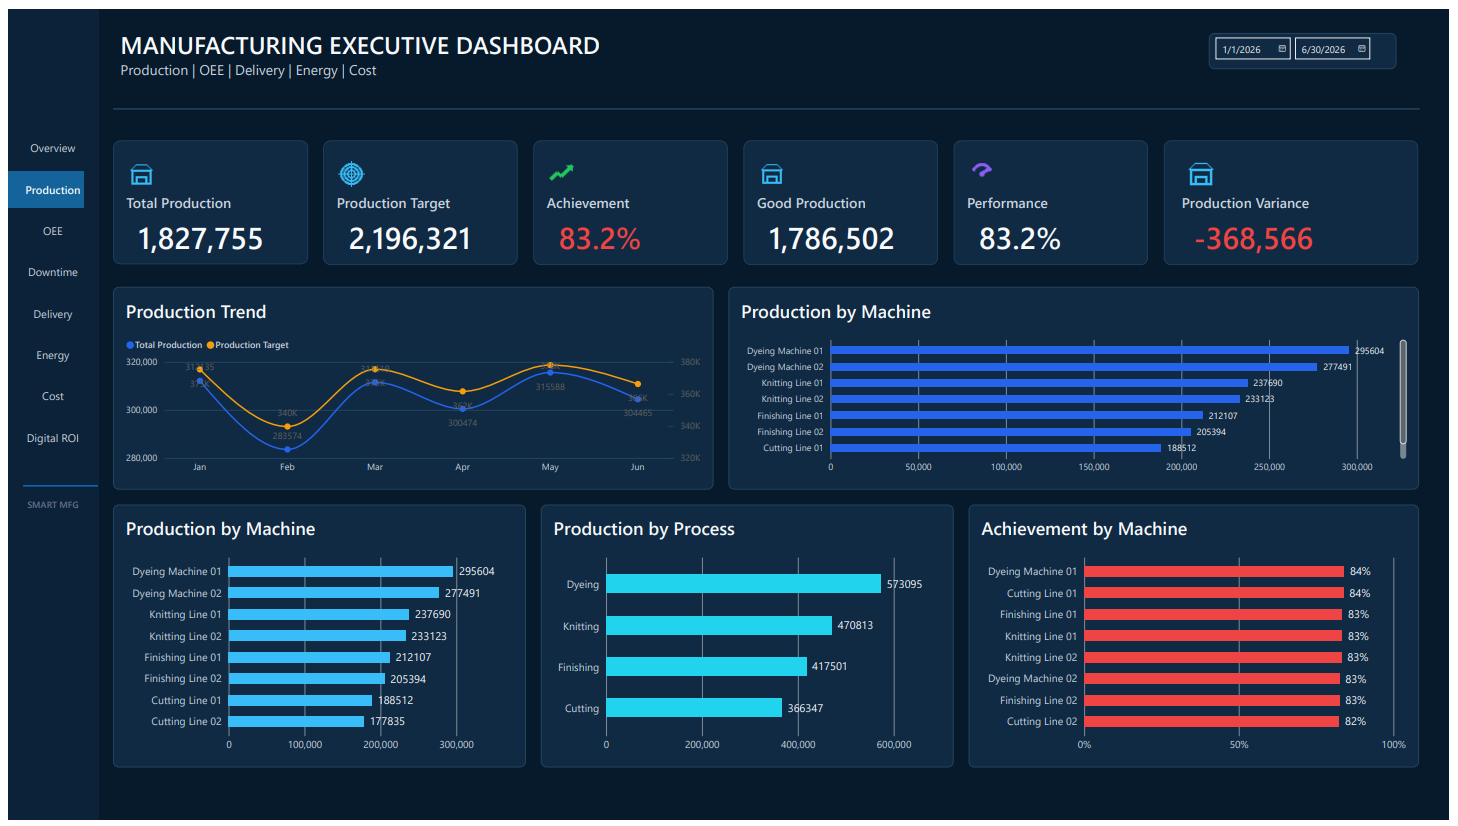

Layout of this report page (visuals, bound fields, positions):
{"tool":"powerbi","page":{"name":"Production","canvas":[1920,1080],"ordinal":1},"visuals":[{"type":"textbox","box":[150,25,900,85],"z":0},{"type":"shape","box":[140,175,260,165],"z":0,"group":"g6"},{"type":"shape","box":[420,175,259.3,165.7],"z":0,"group":"g5"},{"type":"shape","box":[700,175,259.3,165.7],"z":0,"group":"g4"},{"type":"shape","box":[980,175,259.3,165.7],"z":0,"group":"g3"},{"type":"shape","box":[1260,175,259.3,165.7],"z":0,"group":"g2"},{"type":"shape","box":[1540,175,339.2,165.7],"z":0,"group":"g1"},{"type":"slicer","fields":{"Values":["Date_Table.Date"]},"box":[1600,32,250,48],"z":1000},{"type":"image","box":[158.2,198,38.3,42],"z":1000,"group":"g6"},{"type":"image","box":[438.2,198.1,38.2,42.2],"z":1000,"group":"g5"},{"type":"image","box":[718.2,198.1,38.2,42.2],"z":1000,"group":"g4"},{"type":"image","box":[998.2,198.1,38.2,42.2],"z":1000,"group":"g3"},{"type":"image","box":[1278.2,198.1,38.2,42.2],"z":1000,"group":"g2"},{"type":"image","box":[1563.8,198.1,50,42.2],"z":1000,"group":"g1"},{"type":"group","id":"g1","title":"Orders","box":[1540,175,340,165],"z":2000},{"type":"textbox","box":[158.2,245,182.5,30],"z":2000,"group":"g6"},{"type":"textbox","box":[438.2,245.3,182,30.1],"z":2000,"group":"g5"},{"type":"textbox","box":[718.2,245.3,182,30.1],"z":2000,"group":"g4"},{"type":"textbox","box":[998.2,245.3,182,30.1],"z":2000,"group":"g3"},{"type":"textbox","box":[1278.2,245.3,182,30.1],"z":2000,"group":"g2"},{"type":"textbox","box":[1563.8,245.3,238,30.1],"z":2000,"group":"g1"},{"type":"group","id":"g2","title":"Downtime","box":[1260,175,260,165],"z":3000},{"type":"cardVisual","fields":{"Data":["_measure.Total Production"]},"box":[158.2,280,209.8,45],"z":3000,"group":"g6"},{"type":"cardVisual","fields":{"Data":["_measure.Production Target"]},"box":[438.2,280.5,209.3,45.2],"z":3000,"group":"g5"},{"type":"cardVisual","fields":{"Data":["_measure.Production Achievement %"]},"box":[718.2,280.5,209.3,45.2],"z":3000,"group":"g4"},{"type":"cardVisual","fields":{"Data":["_measure.Good Production"]},"box":[998.2,280.5,209.3,45.2],"z":3000,"group":"g3"},{"type":"cardVisual","fields":{"Data":["_measure.Performance %"]},"box":[1278.2,280.5,209.3,45.2],"z":3000,"group":"g2"},{"type":"cardVisual","fields":{"Data":["_measure.Production Variance"]},"box":[1563.8,280.5,273.7,45.2],"z":3000,"group":"g1"},{"type":"group","id":"g3","title":"OEE","box":[980,175,260,165],"z":4000},{"type":"group","id":"g4","title":"Achievement","box":[700,175,260,165],"z":5000},{"type":"group","id":"g5","title":"Target","box":[420,175,260,165],"z":6000},{"type":"group","id":"g6","title":"Production","box":[140,175,260,165],"z":7000},{"type":"shape","title":"Sidebar Background","box":[0,0,120,1080],"z":8000},{"type":"shape","box":[0,215.7,99.9,49.2],"z":9000},{"type":"textbox","box":[10,174,100,25],"z":10000},{"type":"textbox","box":[10,230,100,25],"z":11000},{"type":"textbox","box":[10,285,100,25],"z":12000},{"type":"textbox","box":[10,340,100,25],"z":13000},{"type":"textbox","box":[10,395,100,25],"z":14000},{"type":"textbox","box":[10,450,100,25],"z":15000},{"type":"textbox","box":[10,505,100,25],"z":16000},{"type":"textbox","box":[10,560,100,25],"z":17000},{"type":"shape","box":[20,625,100,20],"z":18000},{"type":"textbox","box":[10,650,100,25],"z":19000},{"type":"shape","box":[140,106.4,1741.2,53.9],"z":20000},{"type":"lineChart","title":"Production Trend","fields":{"Category":["Date_Table.Month"],"Y":["_measure.Total Production"],"Y2":["_measure.Production Target"]},"box":[140,370,800,270],"z":21000},{"type":"clusteredBarChart","title":"Production by Machine","fields":{"Category":["Production.Machine Name"],"Y":["_measure.Total Production"]},"box":[960,370,920,270],"z":22000},{"type":"clusteredBarChart","title":"Production by Machine","fields":{"Category":["Production.Machine Name"],"Y":["_measure.Total Production"]},"box":[140,660,550,350],"z":23000},{"type":"clusteredBarChart","title":"Production by Process","fields":{"Category":["Production.Process"],"Y":["_measure.Total Production"]},"box":[710,660,550,350],"z":24000},{"type":"clusteredBarChart","title":"Achievement by Machine","fields":{"Category":["Production.Machine Name"],"Y":["_measure.Production Achievement %"]},"box":[1280,660,600,350],"z":25000}]}

Visuals, with their boxes in screenshot pixels (x1, y1, x2, y2), scaled from the page's 1920x1080 canvas onto the 1458x826 screenshot:
textbox: pyautogui.locateOnScreen(114, 19, 797, 84)
shape: pyautogui.locateOnScreen(106, 134, 304, 260)
shape: pyautogui.locateOnScreen(319, 134, 516, 261)
shape: pyautogui.locateOnScreen(532, 134, 728, 261)
shape: pyautogui.locateOnScreen(744, 134, 941, 261)
shape: pyautogui.locateOnScreen(957, 134, 1154, 261)
shape: pyautogui.locateOnScreen(1169, 134, 1427, 261)
slicer - Date_Table.Date: pyautogui.locateOnScreen(1215, 24, 1405, 61)
image: pyautogui.locateOnScreen(120, 151, 149, 184)
image: pyautogui.locateOnScreen(333, 152, 362, 184)
image: pyautogui.locateOnScreen(545, 152, 574, 184)
image: pyautogui.locateOnScreen(758, 152, 787, 184)
image: pyautogui.locateOnScreen(971, 152, 1000, 184)
image: pyautogui.locateOnScreen(1188, 152, 1225, 184)
"Orders" group: pyautogui.locateOnScreen(1169, 134, 1428, 260)
textbox: pyautogui.locateOnScreen(120, 187, 259, 210)
textbox: pyautogui.locateOnScreen(333, 188, 471, 211)
textbox: pyautogui.locateOnScreen(545, 188, 684, 211)
textbox: pyautogui.locateOnScreen(758, 188, 896, 211)
textbox: pyautogui.locateOnScreen(971, 188, 1109, 211)
textbox: pyautogui.locateOnScreen(1188, 188, 1368, 211)
"Downtime" group: pyautogui.locateOnScreen(957, 134, 1154, 260)
cardVisual - _measure.Total Production: pyautogui.locateOnScreen(120, 214, 279, 249)
cardVisual - _measure.Production Target: pyautogui.locateOnScreen(333, 215, 492, 249)
cardVisual - _measure.Production Achievement %: pyautogui.locateOnScreen(545, 215, 704, 249)
cardVisual - _measure.Good Production: pyautogui.locateOnScreen(758, 215, 917, 249)
cardVisual - _measure.Performance %: pyautogui.locateOnScreen(971, 215, 1130, 249)
cardVisual - _measure.Production Variance: pyautogui.locateOnScreen(1188, 215, 1395, 249)
"OEE" group: pyautogui.locateOnScreen(744, 134, 942, 260)
"Achievement" group: pyautogui.locateOnScreen(532, 134, 729, 260)
"Target" group: pyautogui.locateOnScreen(319, 134, 516, 260)
"Production" group: pyautogui.locateOnScreen(106, 134, 304, 260)
"Sidebar Background" shape: pyautogui.locateOnScreen(0, 0, 91, 825)
shape: pyautogui.locateOnScreen(0, 165, 76, 203)
textbox: pyautogui.locateOnScreen(8, 133, 84, 152)
textbox: pyautogui.locateOnScreen(8, 176, 84, 195)
textbox: pyautogui.locateOnScreen(8, 218, 84, 237)
textbox: pyautogui.locateOnScreen(8, 260, 84, 279)
textbox: pyautogui.locateOnScreen(8, 302, 84, 321)
textbox: pyautogui.locateOnScreen(8, 344, 84, 363)
textbox: pyautogui.locateOnScreen(8, 386, 84, 405)
textbox: pyautogui.locateOnScreen(8, 428, 84, 447)
shape: pyautogui.locateOnScreen(15, 478, 91, 493)
textbox: pyautogui.locateOnScreen(8, 497, 84, 516)
shape: pyautogui.locateOnScreen(106, 81, 1429, 123)
"Production Trend" lineChart: pyautogui.locateOnScreen(106, 283, 714, 489)
"Production by Machine" clusteredBarChart: pyautogui.locateOnScreen(729, 283, 1428, 489)
"Production by Machine" clusteredBarChart: pyautogui.locateOnScreen(106, 505, 524, 772)
"Production by Process" clusteredBarChart: pyautogui.locateOnScreen(539, 505, 957, 772)
"Achievement by Machine" clusteredBarChart: pyautogui.locateOnScreen(972, 505, 1428, 772)
